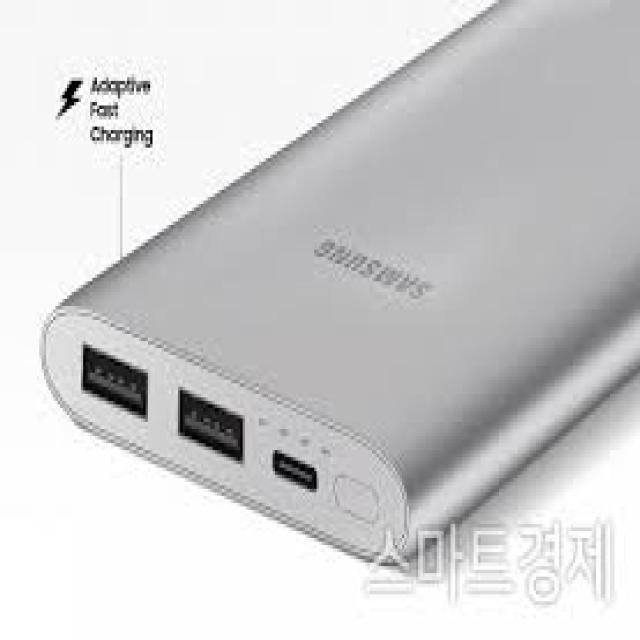portable-charger: (37, 0, 638, 563)
